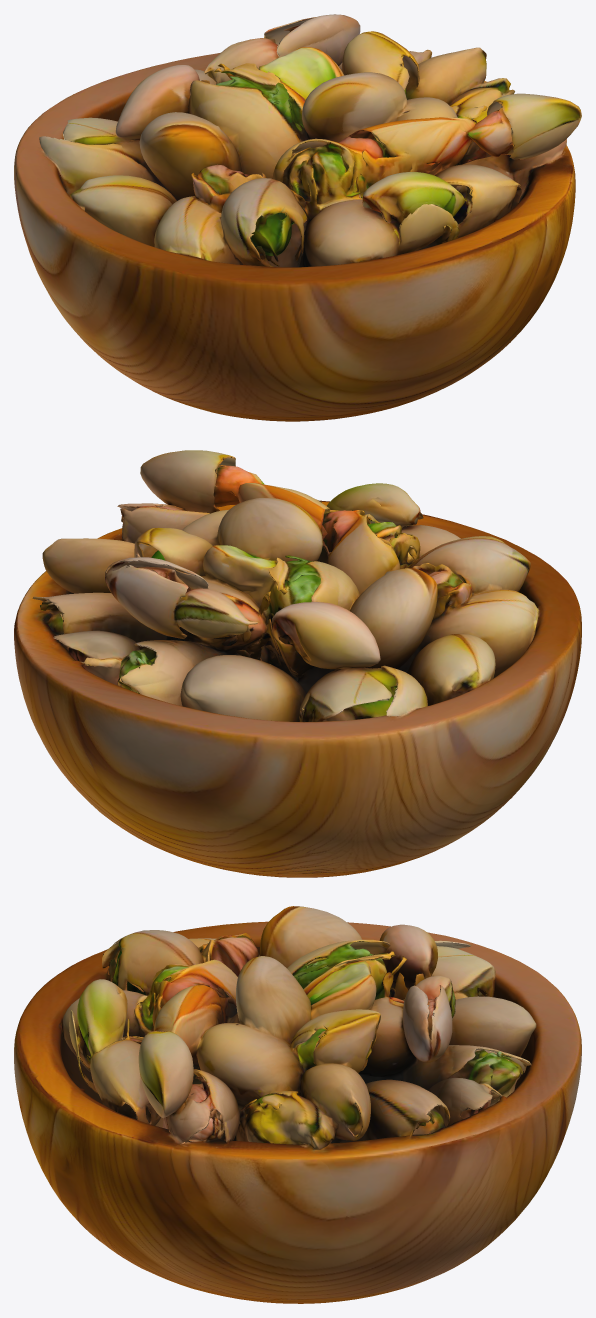
Rendered from pistachio.glb.
The picture shows the model from 3 angles, top to bottom: view 1: azimuth 30°, elevation 25°; view 2: azimuth 150°, elevation 25°; view 3: azimuth 270°, elevation 25°; orthographic projection. The views are drawn at different scales.
Parts seen in each view (by area): view 1: vrin_node_29d710db-e110-4e6c-a9e7-9dc06f0730a8; view 2: vrin_node_29d710db-e110-4e6c-a9e7-9dc06f0730a8; view 3: vrin_node_29d710db-e110-4e6c-a9e7-9dc06f0730a8.
Part boxes in pixels (<box>): vrin_node_29d710db-e110-4e6c-a9e7-9dc06f0730a8: <box>14,14,581,421</box>; vrin_node_29d710db-e110-4e6c-a9e7-9dc06f0730a8: <box>14,450,581,877</box>; vrin_node_29d710db-e110-4e6c-a9e7-9dc06f0730a8: <box>14,906,581,1303</box>.
Size of the model in its own units: 1 by 0.6166 by 0.9998.
1 material, 1 textured.
